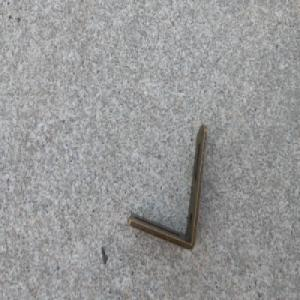MetalPart: (128, 122, 209, 251)
